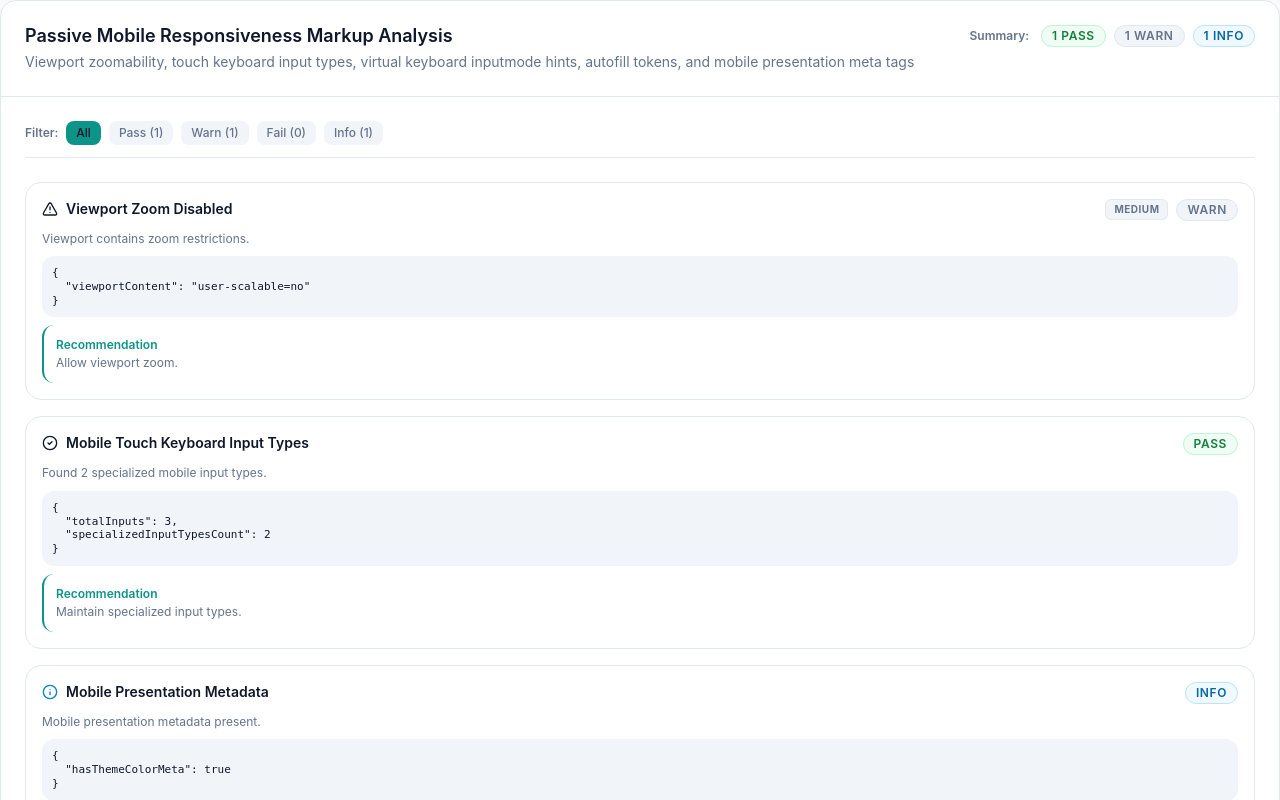
Test case: MobileReadinessCard Component Suite (M6) › filters findings when filter tabs are clicked
// Click Pass filter tab
Click the button "pass (1)" at (141, 132), box [109,120,173,144]
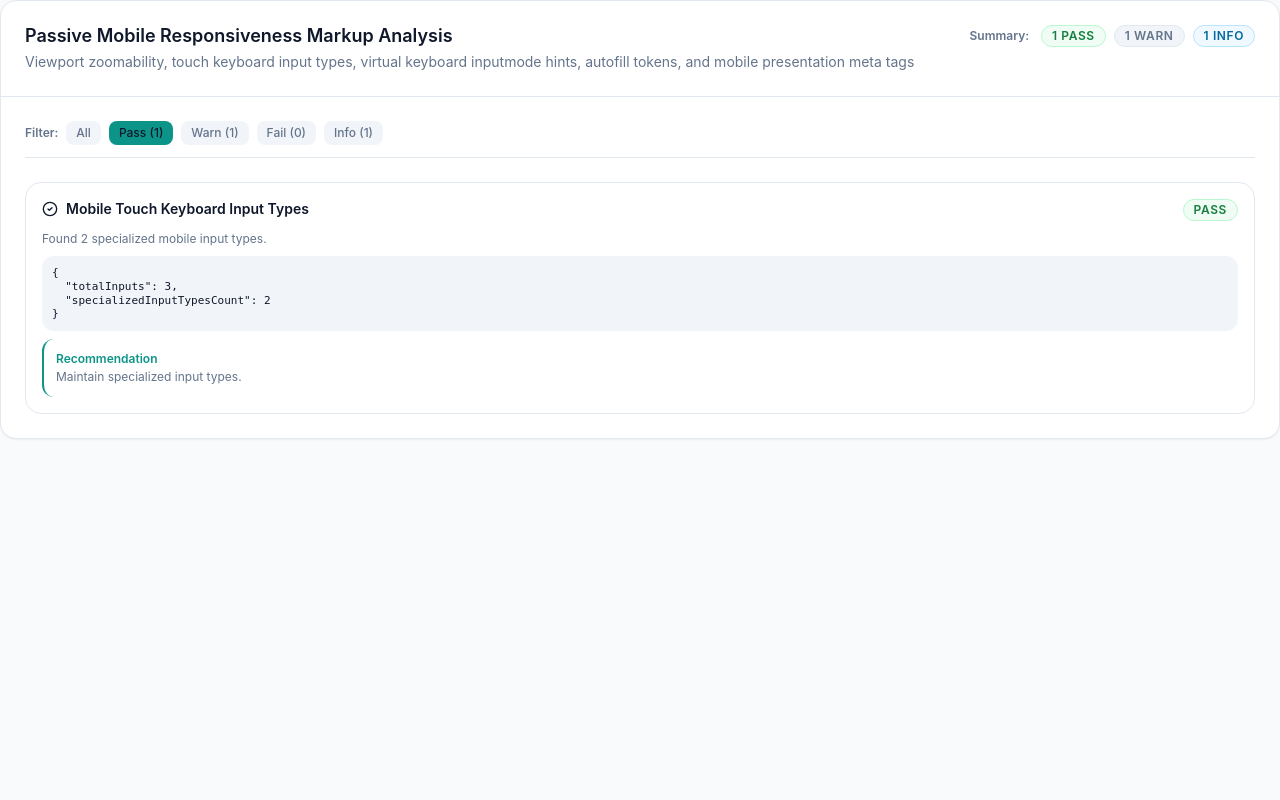
Expected: the heading "Mobile Touch Keyboard Input Types" is shown, [66,198,309,218]
Expected: the heading "Viewport Zoom Disabled" is gone
// Click Warn filter tab
Click the button "warn (1)" at (215, 132), box [181,120,249,144]
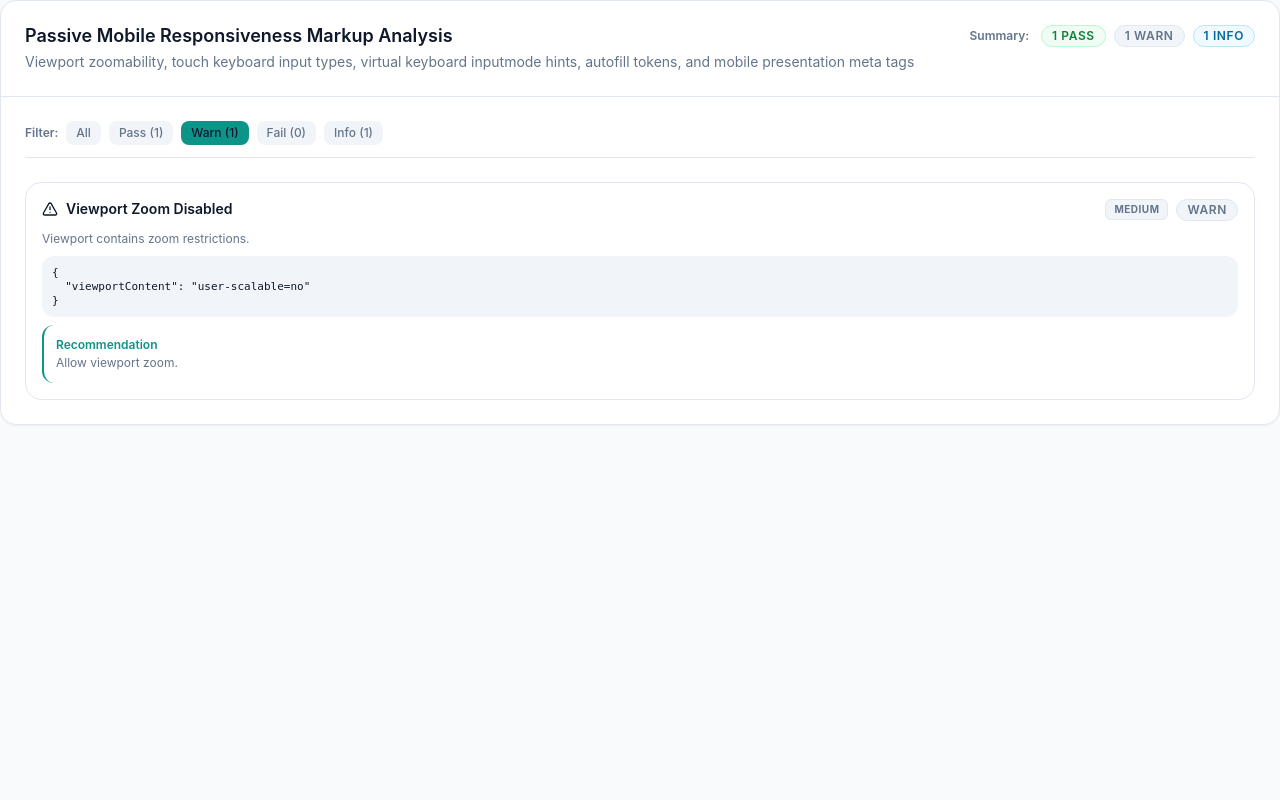
Expected: the heading "Viewport Zoom Disabled" is shown, [66,198,232,218]
Expected: the heading "Mobile Touch Keyboard Input Types" is gone
